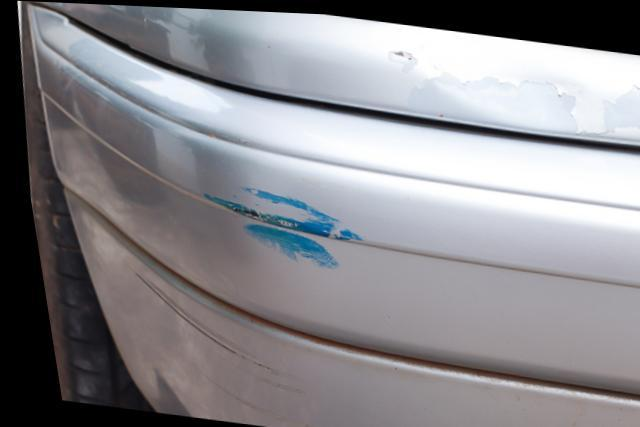dent: (419, 58, 576, 126)
scratch: (119, 265, 297, 420), (188, 183, 361, 271)
